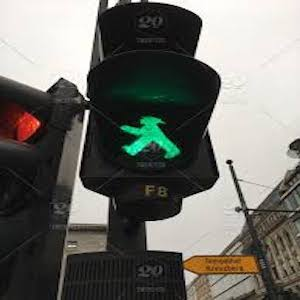green: (114, 107, 181, 164)
